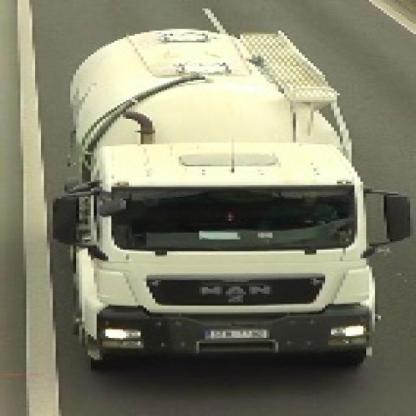truck: (57, 21, 416, 381)
